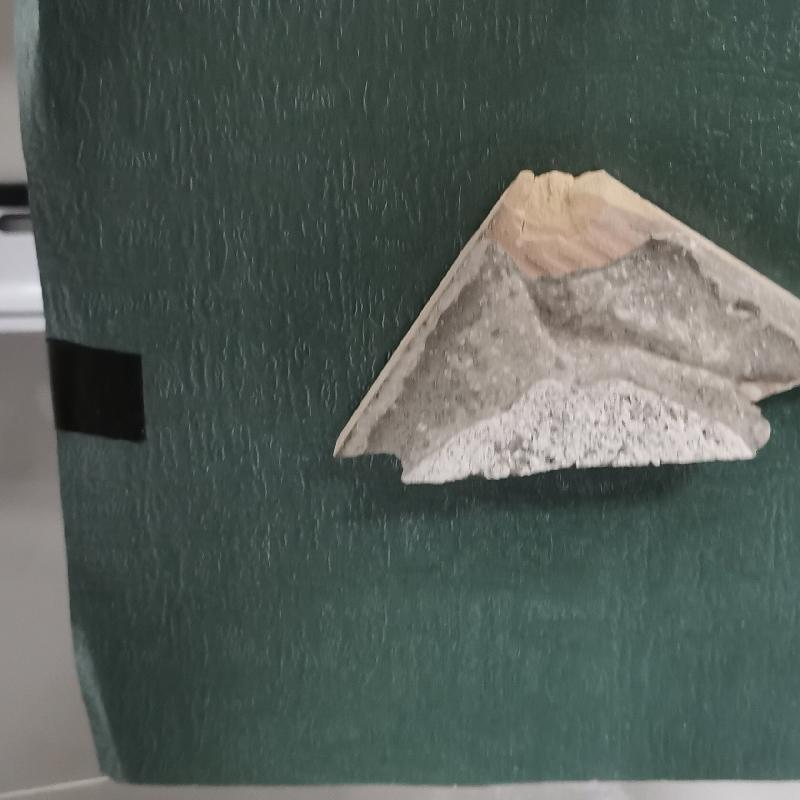tile: (320, 163, 800, 491)
